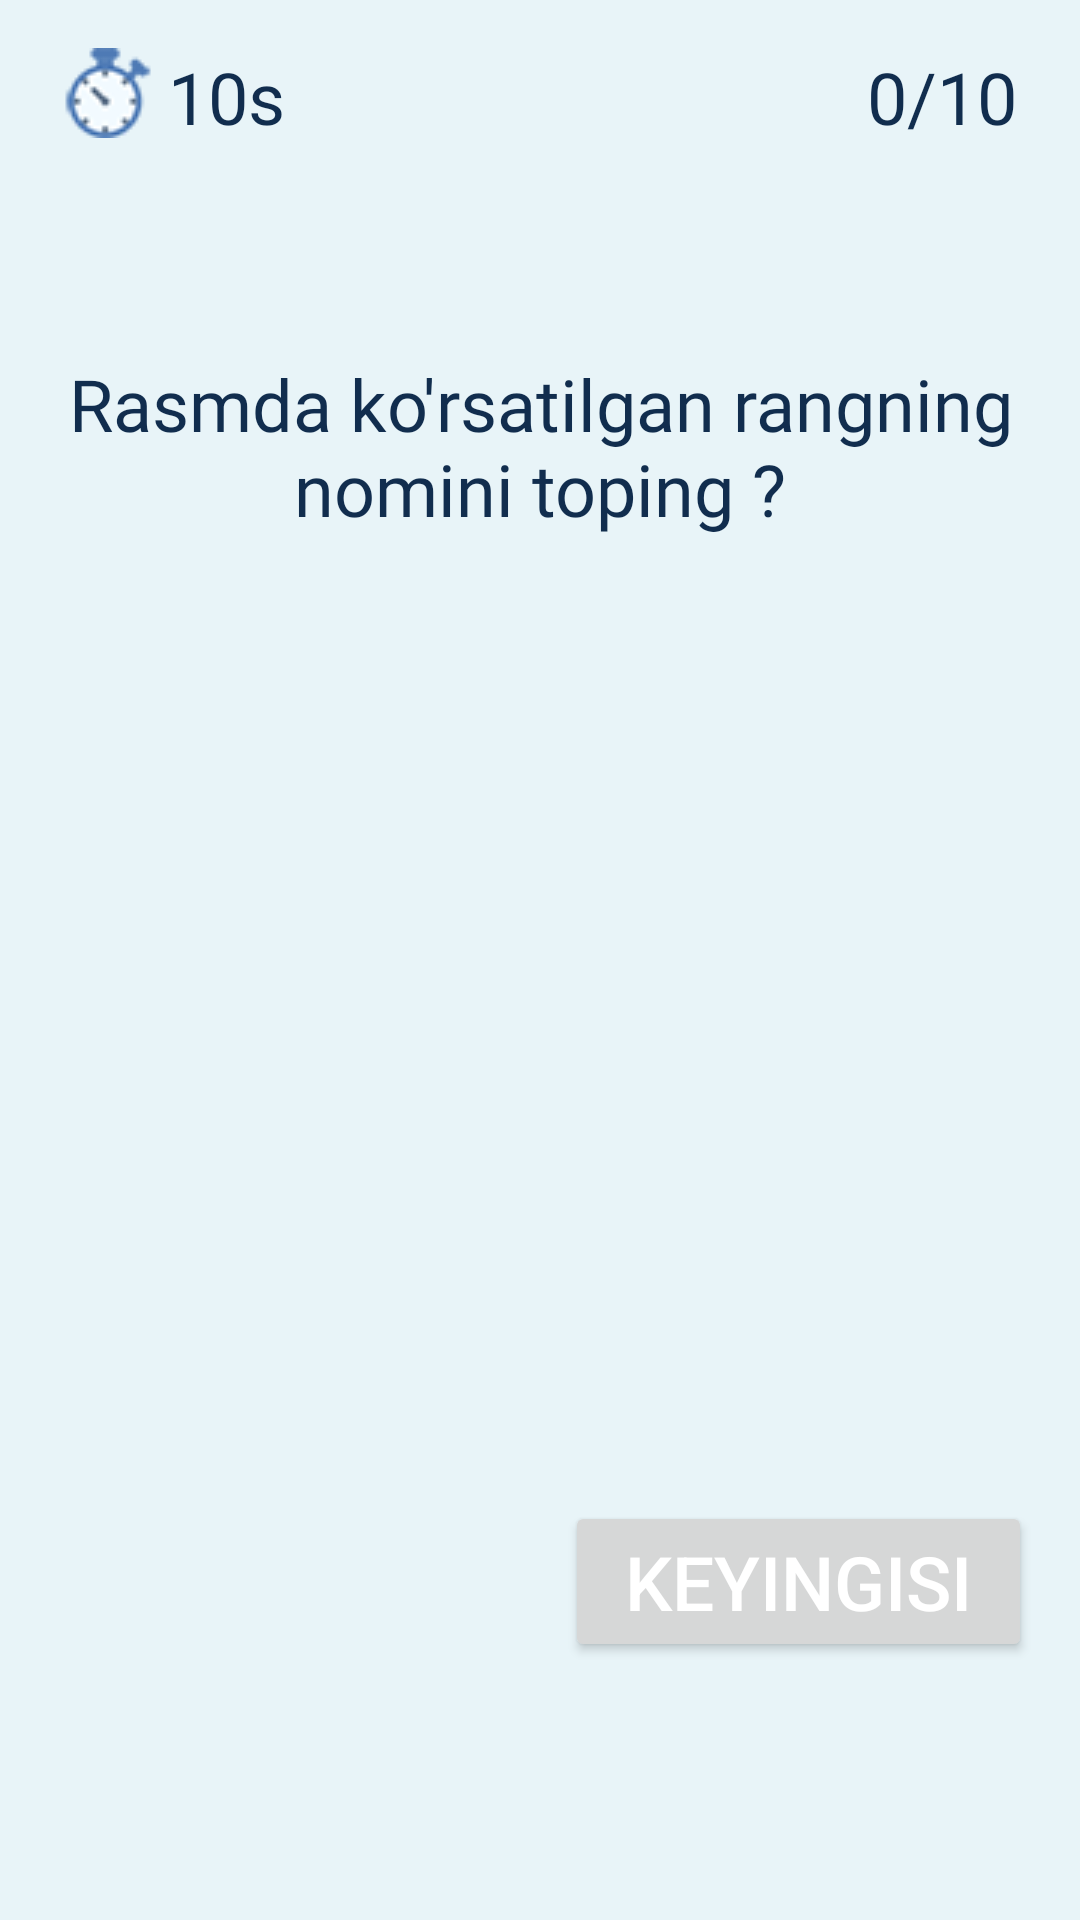

Where icons sit on this 1080*1920 app screen, as (x1, y1, x2, y2):
stopwatch: (65, 48, 151, 138)
